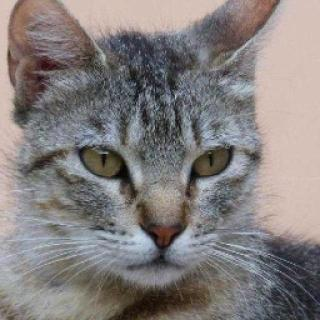cat: (13, 8, 277, 294)
nose: (134, 183, 190, 257)
